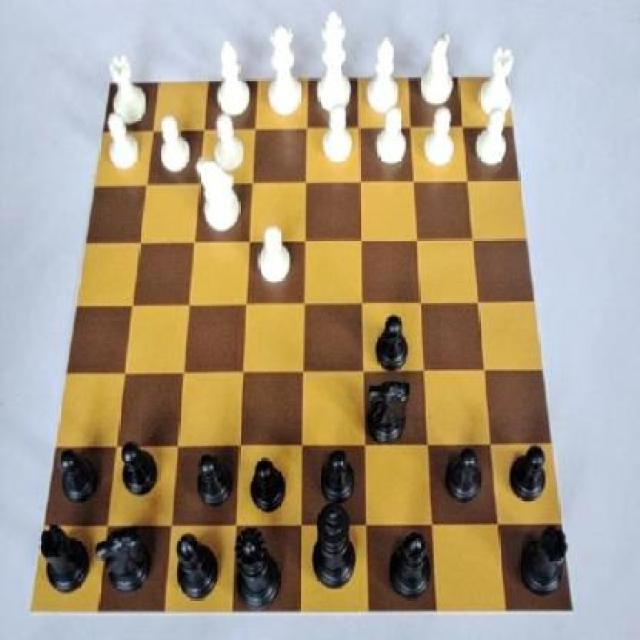bishop: (166, 518, 224, 611), (382, 523, 441, 608)
black-bishop: (304, 494, 364, 609)
black-king: (94, 526, 158, 604), (362, 371, 416, 453)
black-knight: (311, 438, 358, 512), (117, 438, 166, 508), (248, 448, 297, 518), (189, 448, 234, 522), (440, 444, 485, 514), (54, 448, 103, 512), (506, 444, 550, 512), (372, 312, 412, 381)
black-pawn: (228, 515, 290, 613)
black-queen: (517, 518, 574, 608), (36, 523, 94, 608)
black-rook: (364, 34, 404, 114), (215, 36, 250, 124)
white-bishop: (315, 5, 358, 120)
white-king: (194, 150, 241, 244), (417, 30, 461, 121)
white-knight: (98, 112, 147, 180), (254, 223, 297, 297), (472, 101, 512, 178), (154, 109, 196, 181), (374, 99, 411, 178), (212, 109, 252, 179), (420, 103, 459, 174), (322, 103, 359, 174)
white-pawn: (263, 20, 306, 123)
white-queen: (101, 51, 152, 127), (475, 32, 518, 121)
